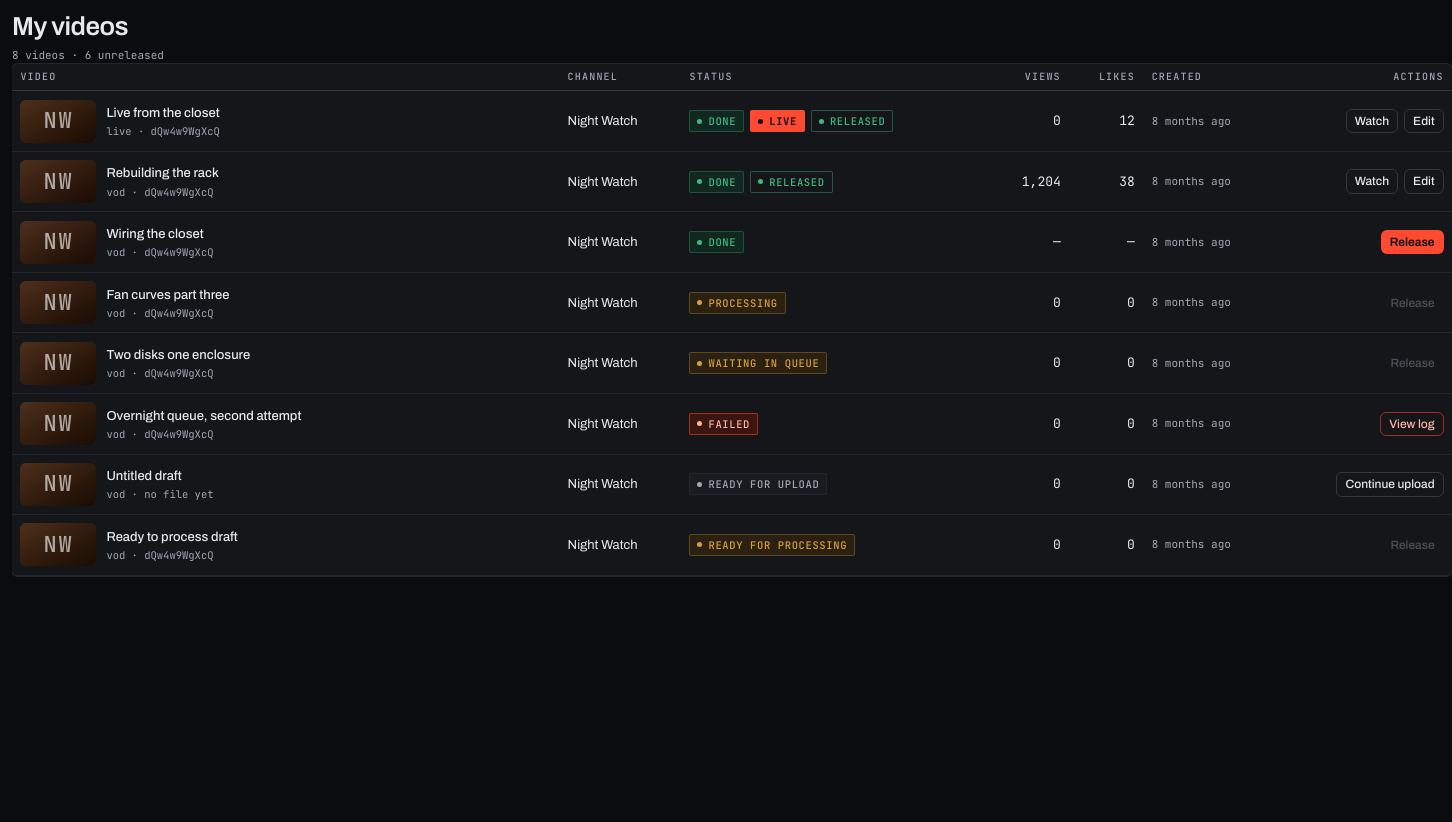
Test case: My videos › offers Release only on done rows and posts the release to the API
Expected: the text "Wiring the closet" is shown, [106,224,214,244]
Click the button "Release" in the row of "Wiring the closet" at (1412, 242), box [1381,230,1444,254]
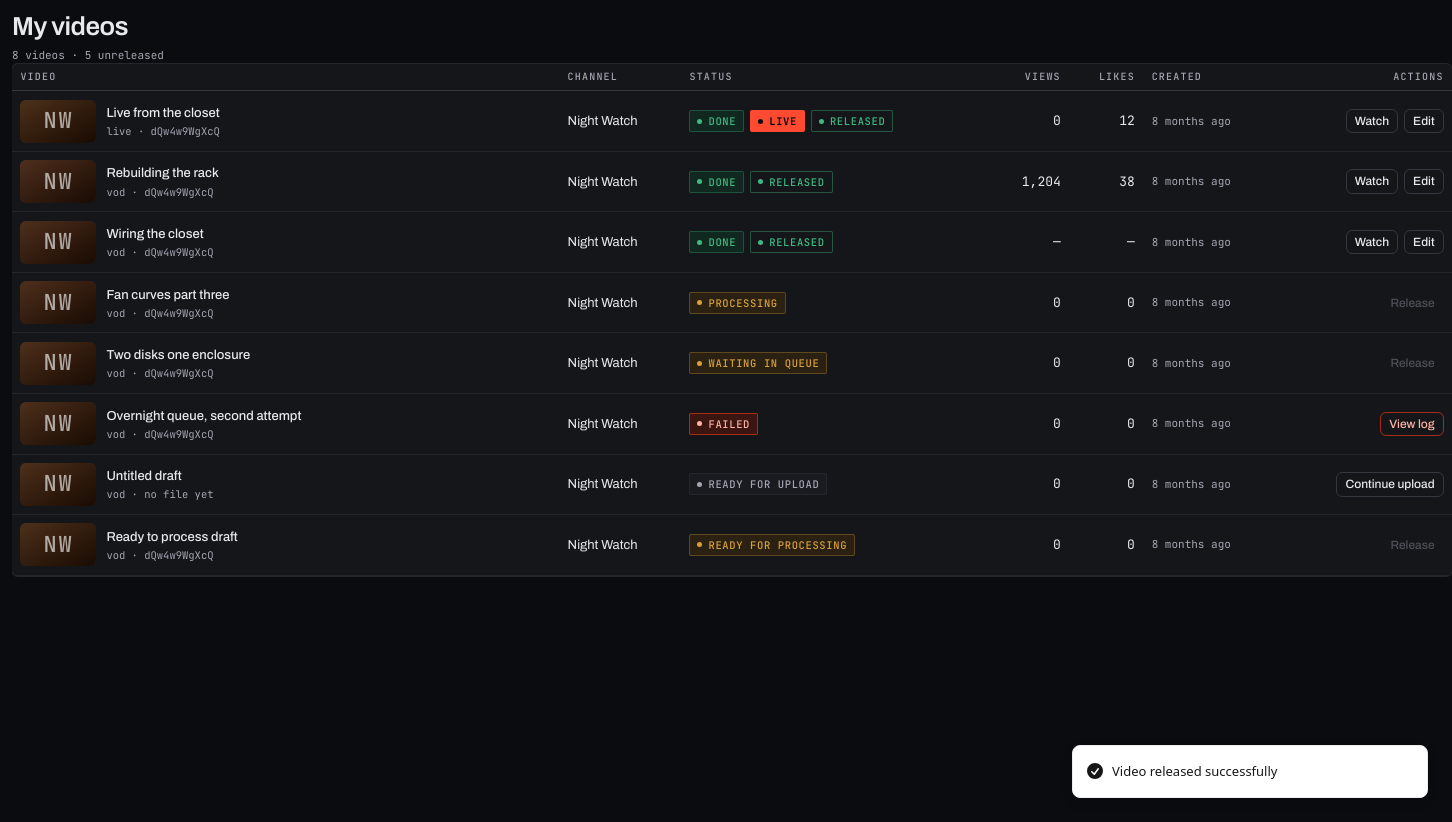
Expected: the text "Released" in the row of "Wiring the closet" is shown, [769,235,825,249]
